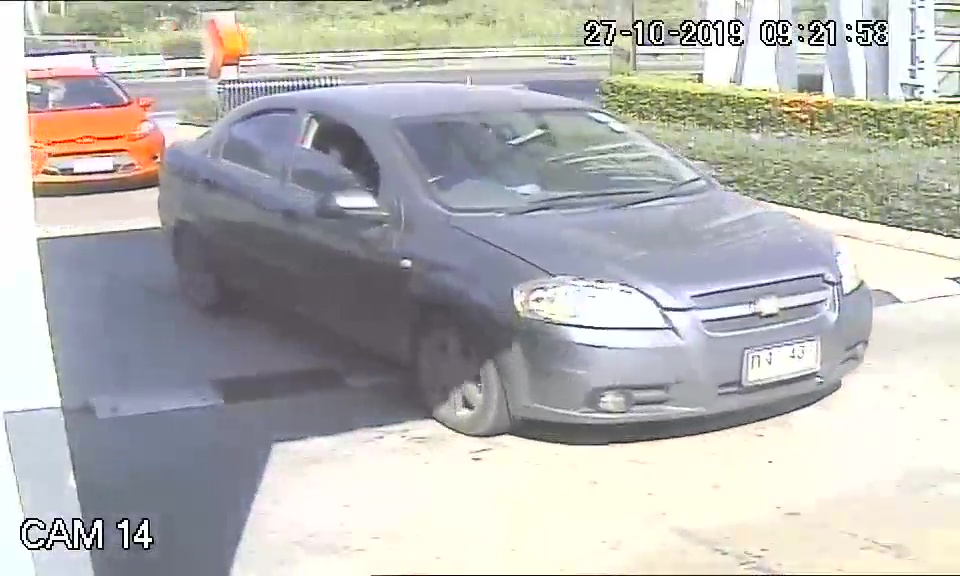sedan: (157, 77, 875, 444)
